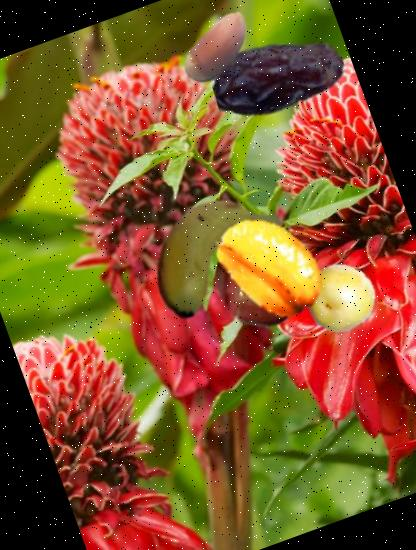Apple: (223, 256, 308, 341)
Banana: (120, 163, 304, 346)
Carambula: (193, 190, 346, 344)
Dates: (193, 0, 363, 160)
Hazelnut: (162, 0, 272, 102)
Maracuja: (294, 252, 385, 342)
